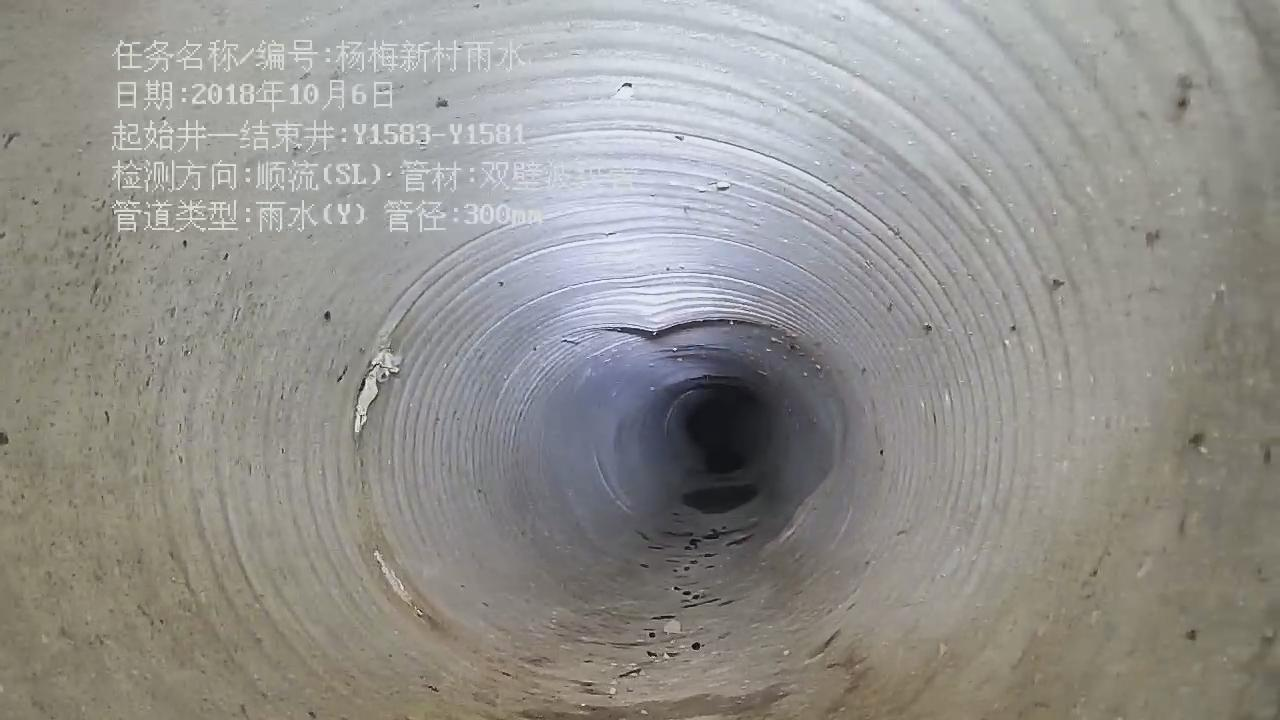BX: (573, 275, 804, 353)
